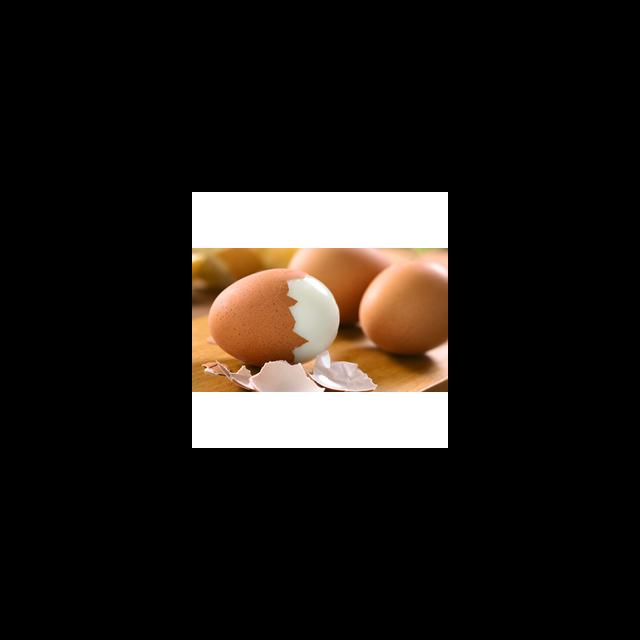food_waste: (196, 271, 307, 361), (194, 353, 374, 398)
